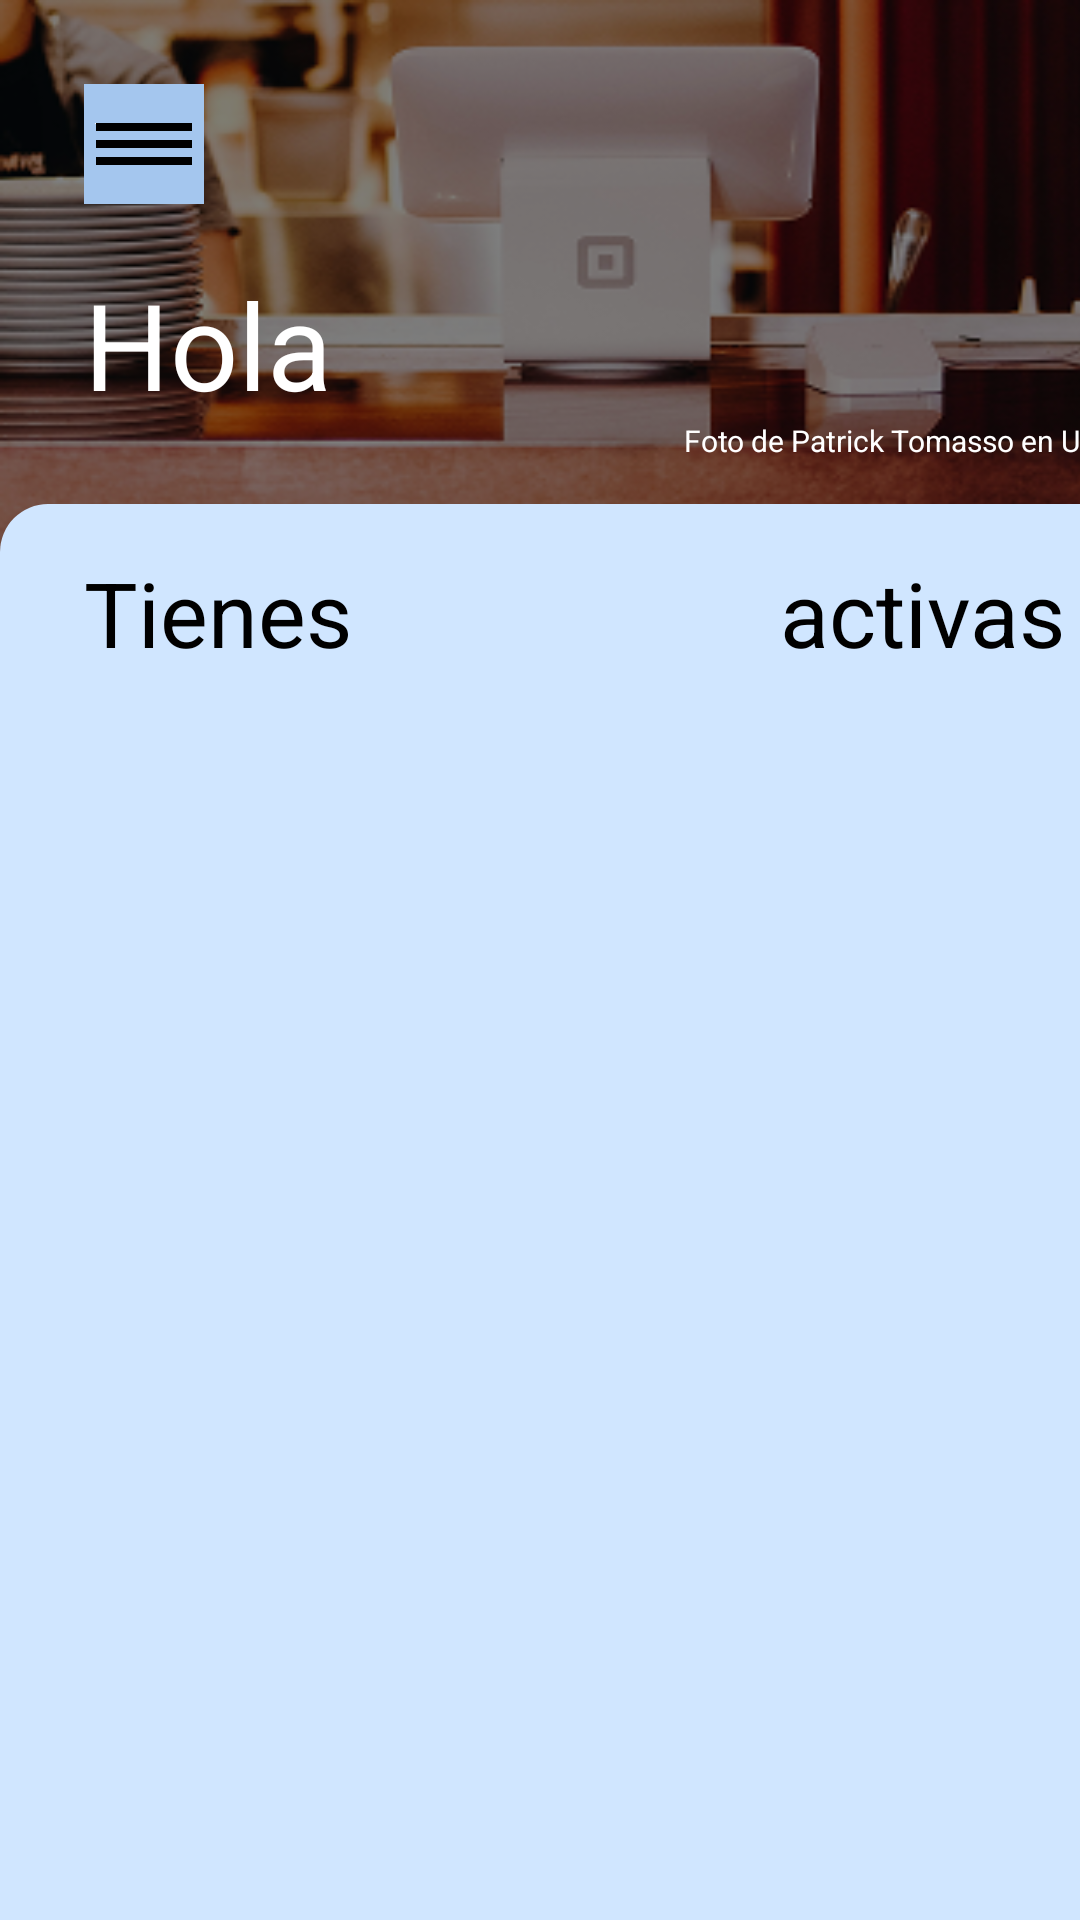

Named icons in this screenshot (1080px x 1920px) and their centers, [x,y]:
menu: [144,144]
